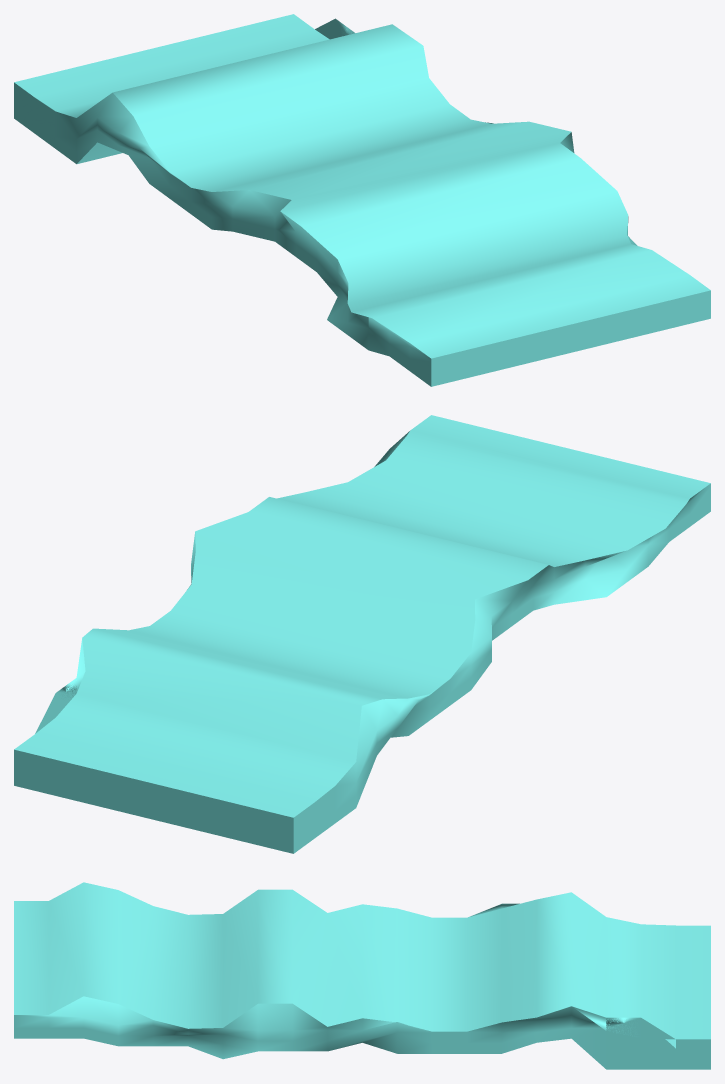
The model's file is Pool_01.dae.
3 views of the same model, one above another, from view 1: azimuth 30°, elevation 25°; view 2: azimuth 150°, elevation 25°; view 3: azimuth 270°, elevation 25° (orthographic). The views are drawn at different scales.
Parts seen in each view (by area): view 1: pCube141; view 2: pCube141; view 3: pCube141.
Boxes of the visible parts, <box> form: pCube141: <box>14,14,710,386</box>; pCube141: <box>14,415,710,853</box>; pCube141: <box>14,882,710,1069</box>.
Bounding box in the file's own units: 315 × 75.54 × 659.
Materials: 1 (1 with a texture image).
